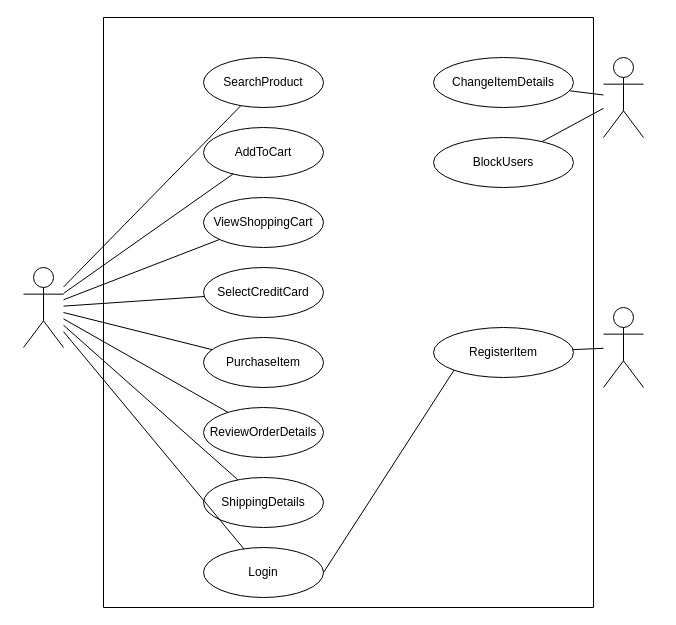
Image size: 676x625. Some labels were removed from this diagram. Here are the shapes that lost their labels. From the top down, the box of each, then its label:
(602, 56, 644, 138): Administrator
(22, 266, 64, 348): Customer
(602, 306, 644, 388): Seller
